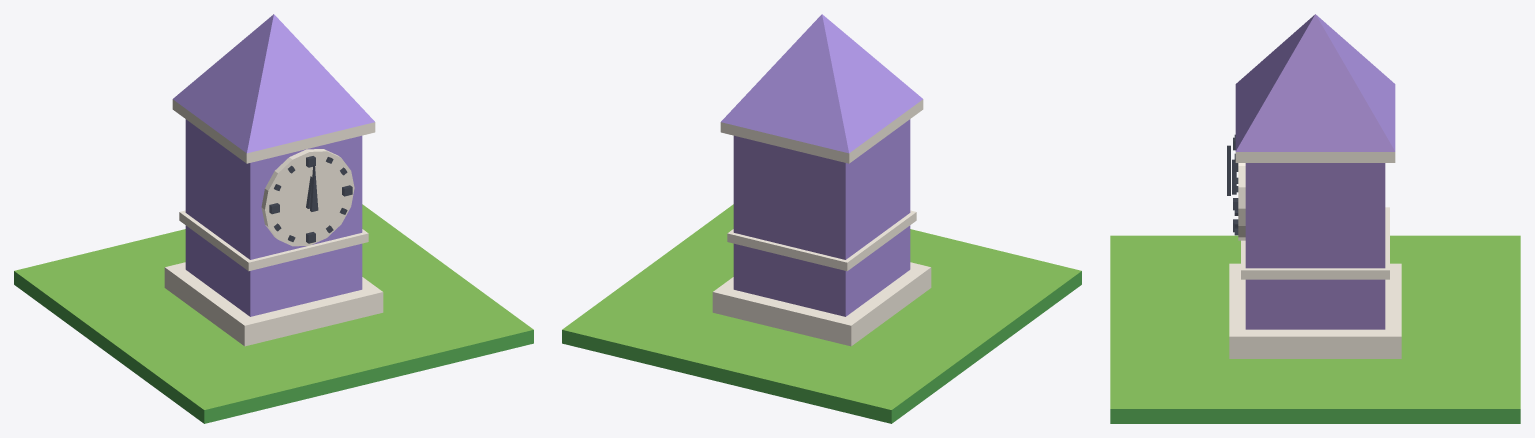
File: skill_measure_clocktower_t1.glb
3 views of the same model, side by side, from view 1: azimuth 30°, elevation 25°; view 2: azimuth 150°, elevation 25°; view 3: azimuth 270°, elevation 25° (orthographic). The views are drawn at different scales.
Parts seen in each view (by area): view 1: base, tower, clock_face; view 2: tower, base; view 3: base, tower, clock_face.
Part boxes in pixels (left/top/right/bottom): base: left=14, top=204, right=533, bottom=423; tower: left=164, top=14, right=383, bottom=346; clock_face: left=261, top=149, right=354, bottom=246; tower: left=712, top=14, right=931, bottom=346; base: left=562, top=204, right=1081, bottom=423; base: left=1110, top=235, right=1520, bottom=423; tower: left=1229, top=14, right=1401, bottom=358; clock_face: left=1233, top=134, right=1245, bottom=240.
Size of the model in its own units: 1 by 0.87 by 1.
